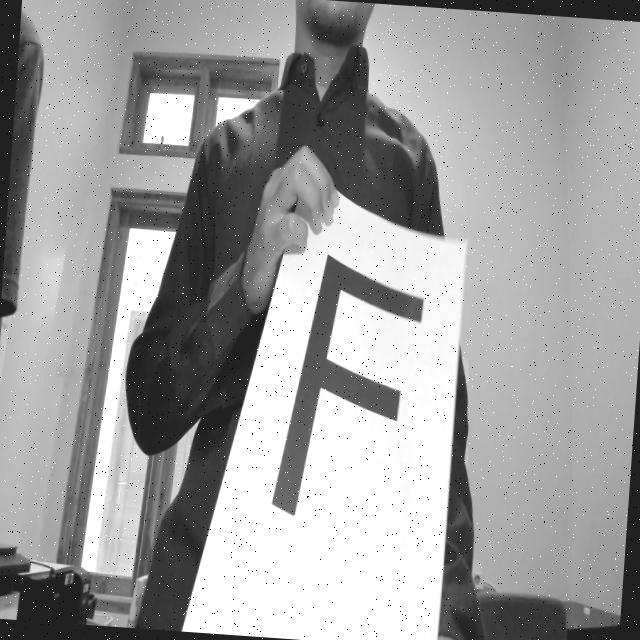f: (266, 240, 434, 549)
